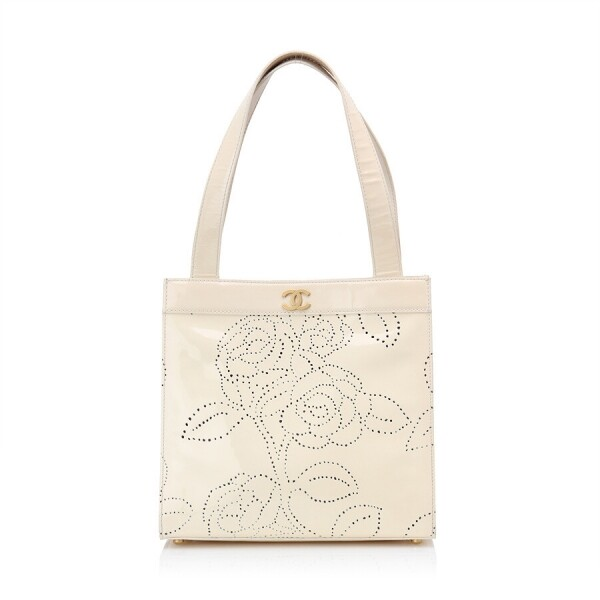channel: (128, 249, 454, 551), (269, 279, 321, 321)
